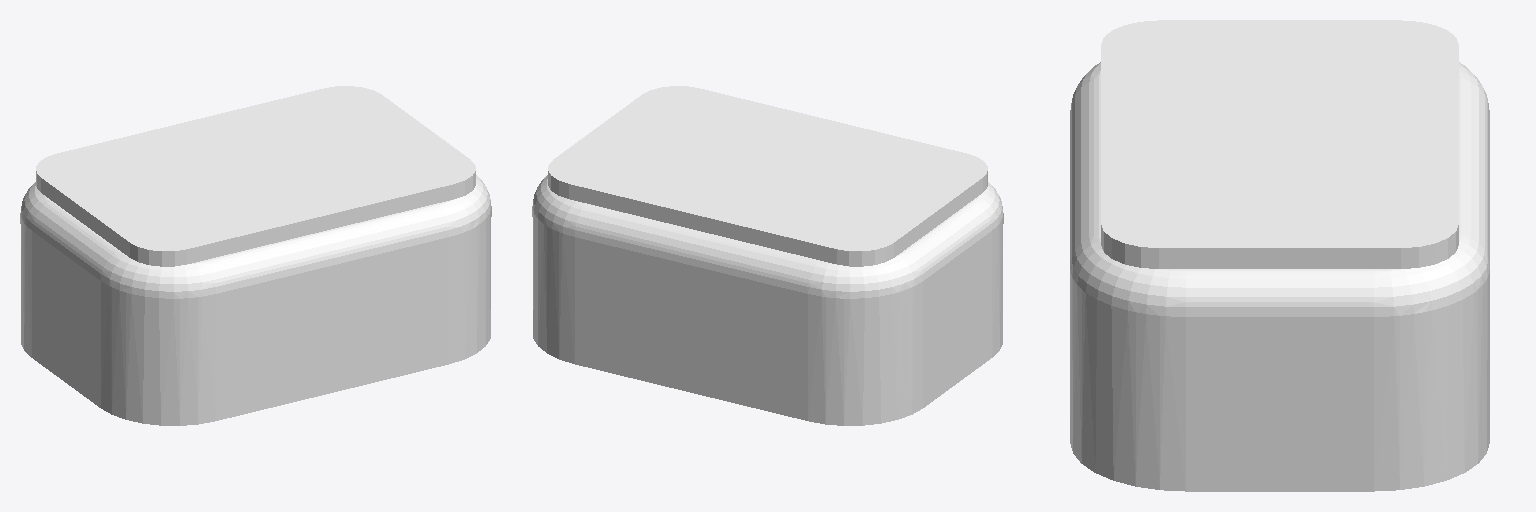
URDF robot description (HIK-Q2-400D):
<?xml version="1.0" encoding="utf-8"?>
<!-- This URDF was automatically created by SolidWorks to URDF Exporter! Originally created by Stephen Brawner (brawner@gmail.com) 
     Commit Version: 1.6.0-4-g7f85cfe  Build Version: 1.6.7995.38578
     For more information, please see http://wiki.ros.org/sw_urdf_exporter -->
<robot
  name="HIK-Q2-400D">
  <link
    name="base_link">
    <inertial>
      <origin
        xyz="-1.196959198424E-16 -1.11022302462516E-16 0.137816360782616"
        rpy="0 0 0" />
      <mass
        value="108.944425120091" />
      <inertia
        ixx="3.4543314678289"
        ixy="-5.42101086242752E-17"
        ixz="-3.27318646032458E-17"
        iyy="6.15885215463657"
        iyz="-1.75436626861531E-16"
        izz="8.11779407029287" />
    </inertial>
    <visual>
      <origin
        xyz="0 0 0"
        rpy="0 0 0" />
      <geometry>
        <mesh
          filename="package://HIK-Q2-400D/meshes/base_link.STL" />
      </geometry>
      <material
        name="">
        <color
          rgba="1 1 1 1" />
      </material>
    </visual>
    <collision>
      <origin
        xyz="0 0 0"
        rpy="0 0 0" />
      <geometry>
        <mesh
          filename="package://HIK-Q2-400D/meshes/base_link.STL" />
      </geometry>
    </collision>
  </link>
  <link
    name="box">
    <inertial>
      <origin
        xyz="-4.33680868994202E-17 1.66533453693773E-16 0.279543743631679"
        rpy="0 0 0" />
      <mass
        value="21.1655419236907" />
      <inertia
        ixx="0.257841341441918"
        ixy="2.71050543121379E-17"
        ixz="-4.0124276405974E-17"
        iyy="0.629671563429278"
        iyz="-1.08739108323356E-16"
        izz="0.822485296184365" />
    </inertial>
    <visual>
      <origin
        xyz="0 0 0"
        rpy="0 0 0" />
      <geometry>
        <mesh
          filename="package://HIK-Q2-400D/meshes/box.STL" />
      </geometry>
      <material
        name="">
        <color
          rgba="1 1 1 1" />
      </material>
    </visual>
    <collision>
      <origin
        xyz="0 0 0"
        rpy="0 0 0" />
      <geometry>
        <mesh
          filename="package://HIK-Q2-400D/meshes/box.STL" />
      </geometry>
    </collision>
  </link>
  <joint
    name="box-lift"
    type="prismatic">
    <origin
      xyz="0 0 0"
      rpy="0 0 0" />
    <parent
      link="base_link" />
    <child
      link="box" />
    <axis
      xyz="0 0 1" />
    <limit
      lower="0"
      upper="0.06"
      effort="2000"
      velocity="0.08" />
  </joint>
</robot>

--- Render facts (derived) ---
The picture shows the robot from 3 angles, left to right: view 1: azimuth 30°, elevation 25°; view 2: azimuth 150°, elevation 25°; view 3: azimuth 270°, elevation 25°; orthographic projection.
Model HIK-Q2-400D with 2 links and 1 joints (1 prismatic), rooted at base_link, posed all joints at 0.
Visible links, largest first — view 1: base_link, box; view 2: base_link, box; view 3: base_link, box.
Boxes of the visible links, x1,y1,x2,y2 form: base_link: (20,175,491,425); box: (36,86,475,266); base_link: (532,175,1003,425); box: (548,86,987,266); base_link: (1070,62,1489,491); box: (1101,20,1458,268).
Size in the robot's own frame: 0.78 by 0.545 by 0.33 metres.
Meshes: 2 distinct files referenced, 2 mesh visuals loaded (2 binary STL).
